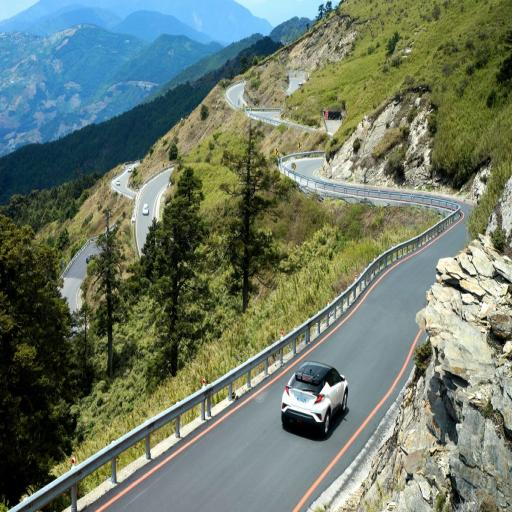car: (276, 346, 350, 438)
redline: (90, 203, 468, 509), (289, 310, 435, 512)
